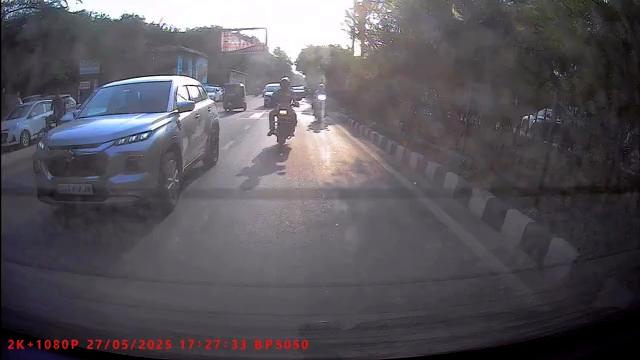motorcycle_with_helmet: (267, 77, 298, 146)
